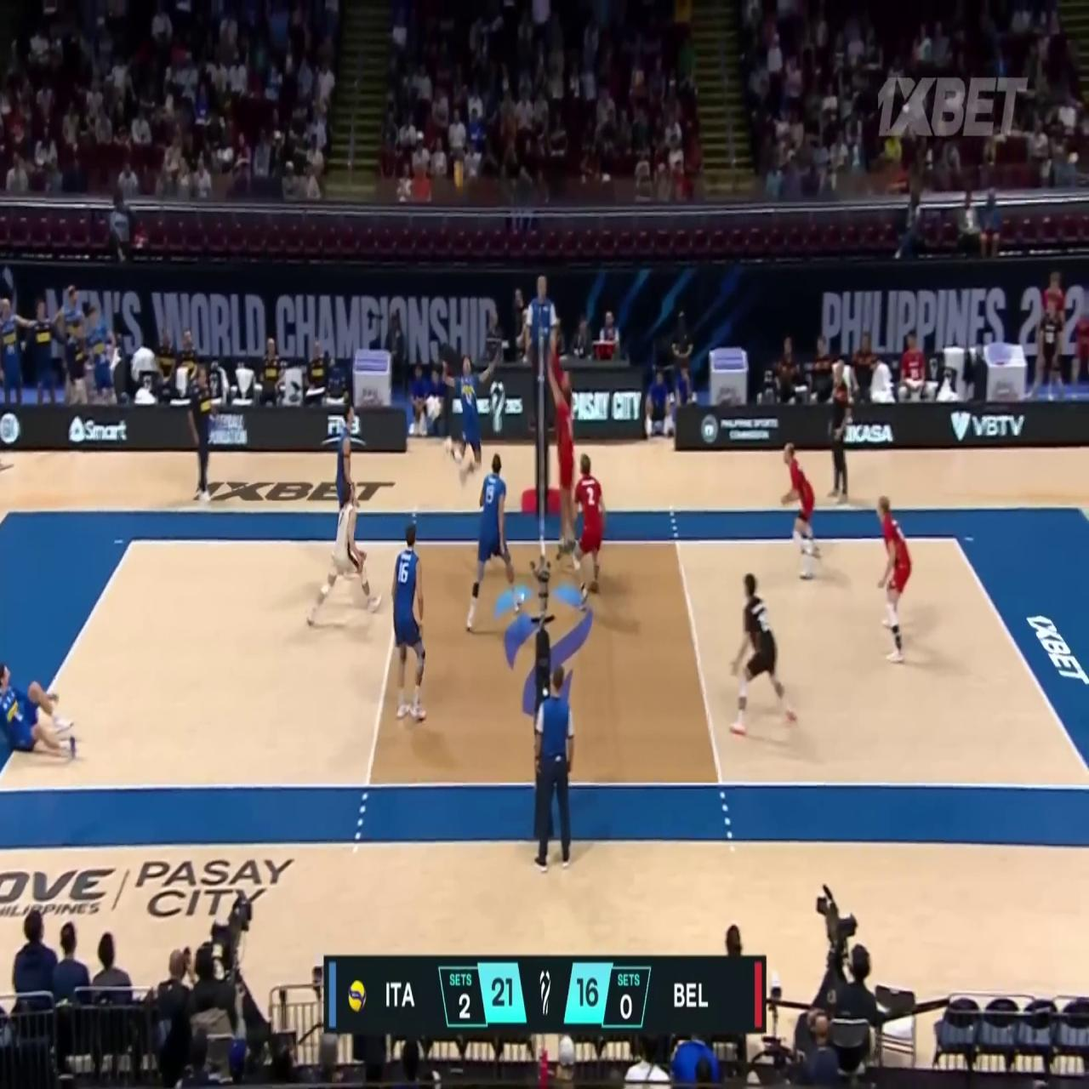ball: (453, 160, 467, 188)
